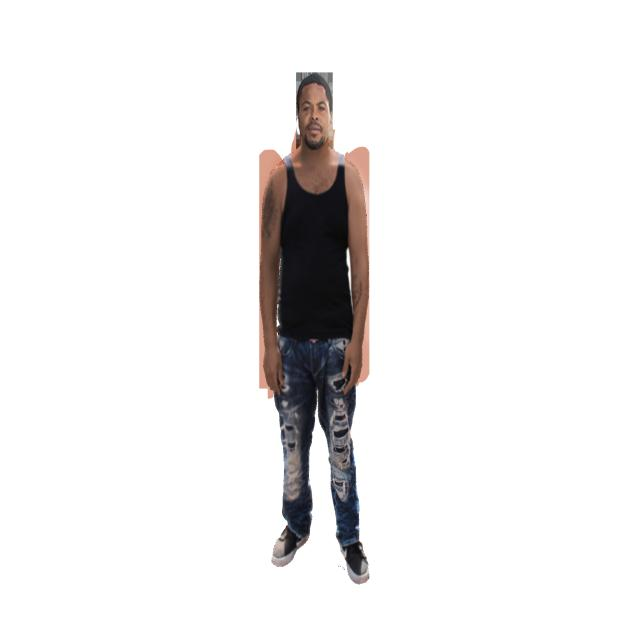jovem: (238, 59, 386, 569)
